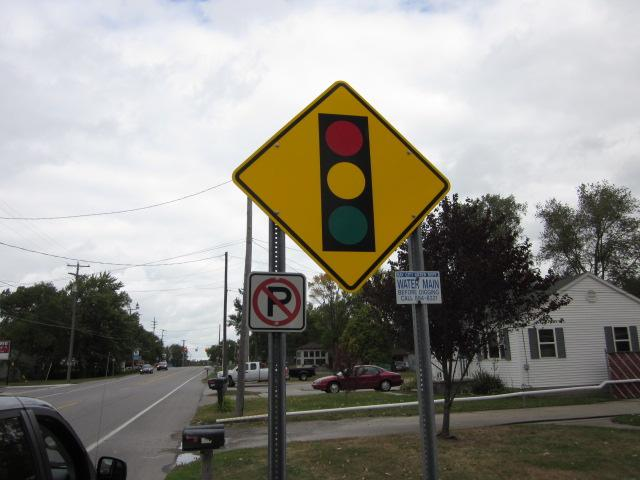regulatory: (243, 269, 314, 335)
warning: (228, 80, 449, 292)
